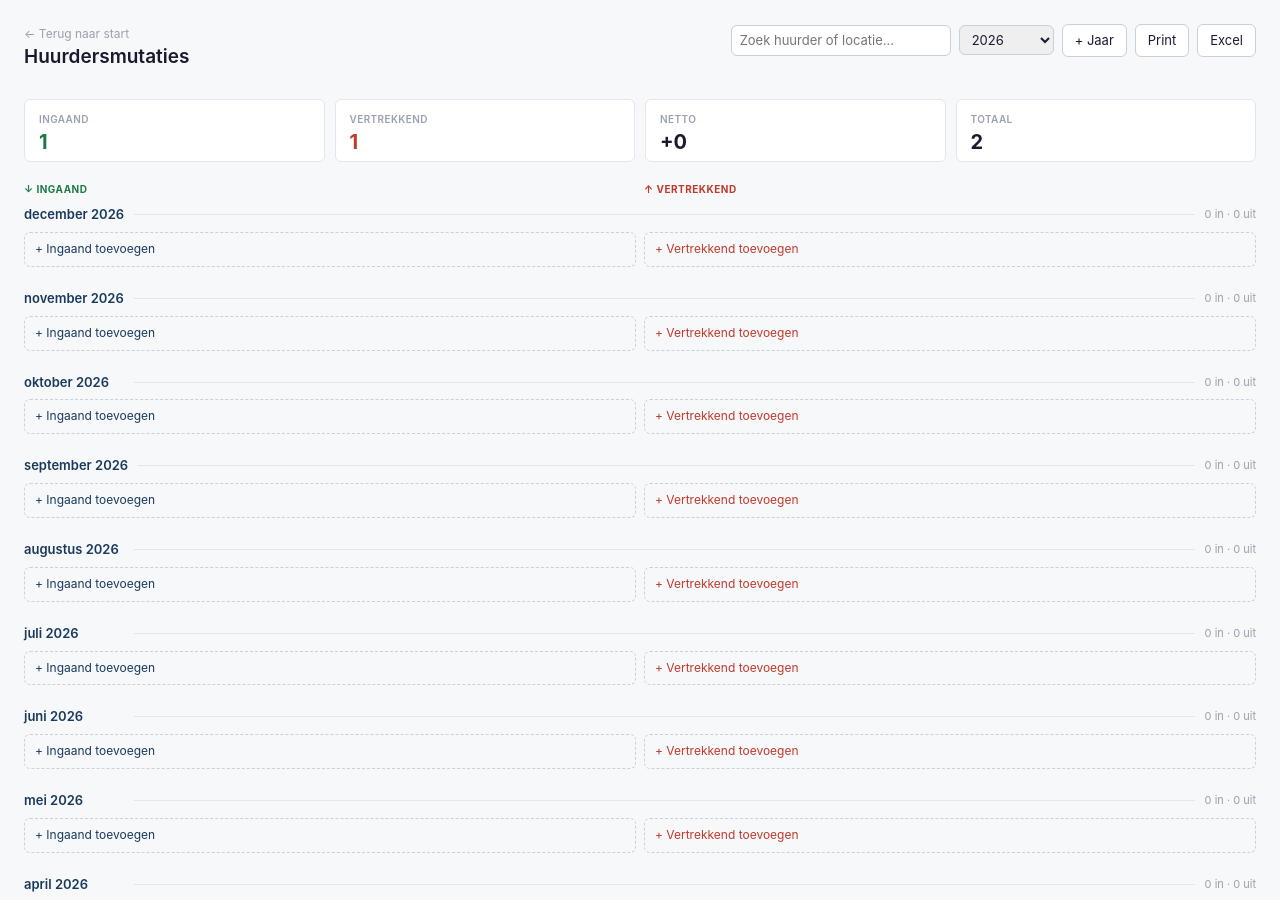
Huurdersmutaties › markeert maanden van een toekomstig jaar met een "Toekomstig"-badge
This screenshot has width=1280, height=900.
expect the text "Toekomstig" is not shown: met
Select "2027" in the dropdown named "Filter op jaar": x=1006, y=40 [959,25,1054,55]
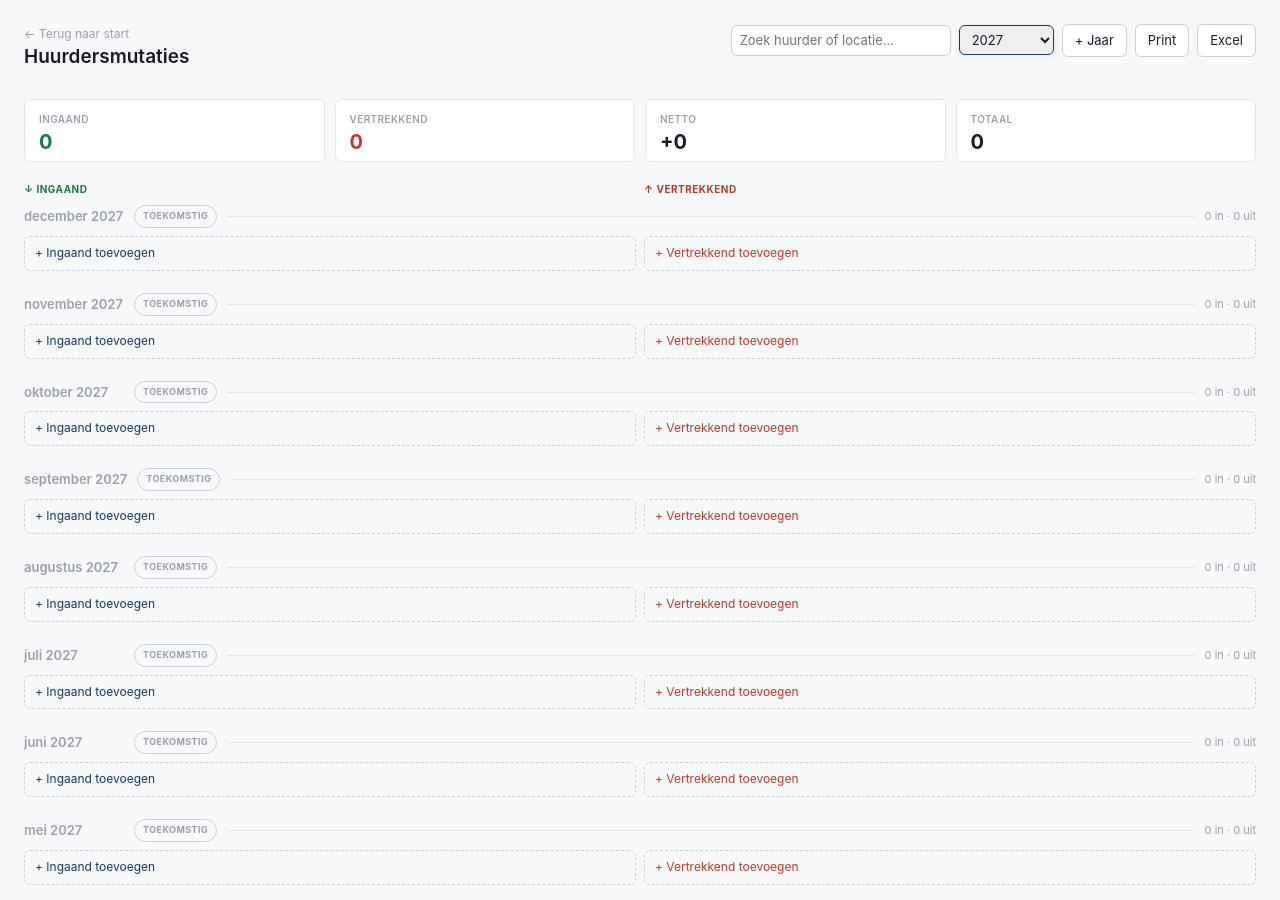
expect the text "Toekomstig" is shown 12 times: met
